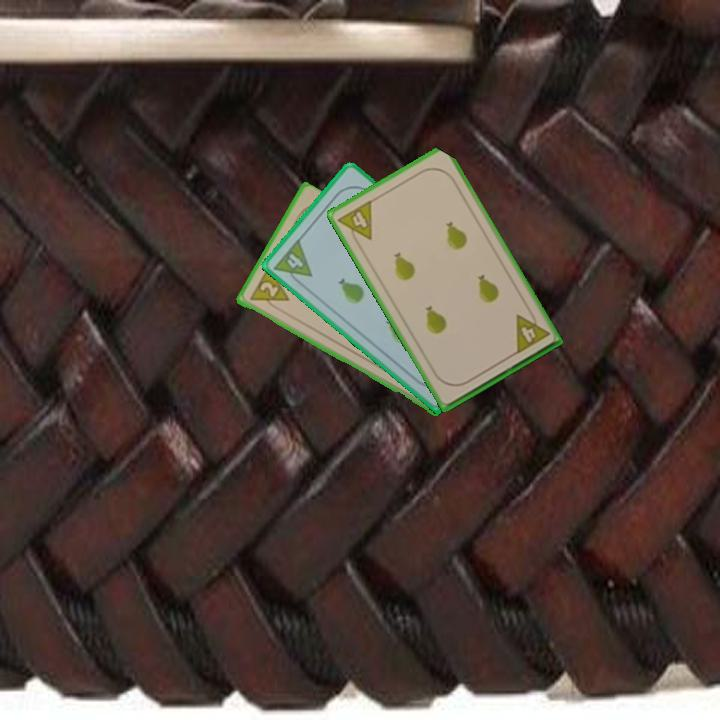2p: (245, 264, 292, 314)
4p: (270, 235, 315, 290), (510, 305, 552, 357), (334, 196, 375, 249)
